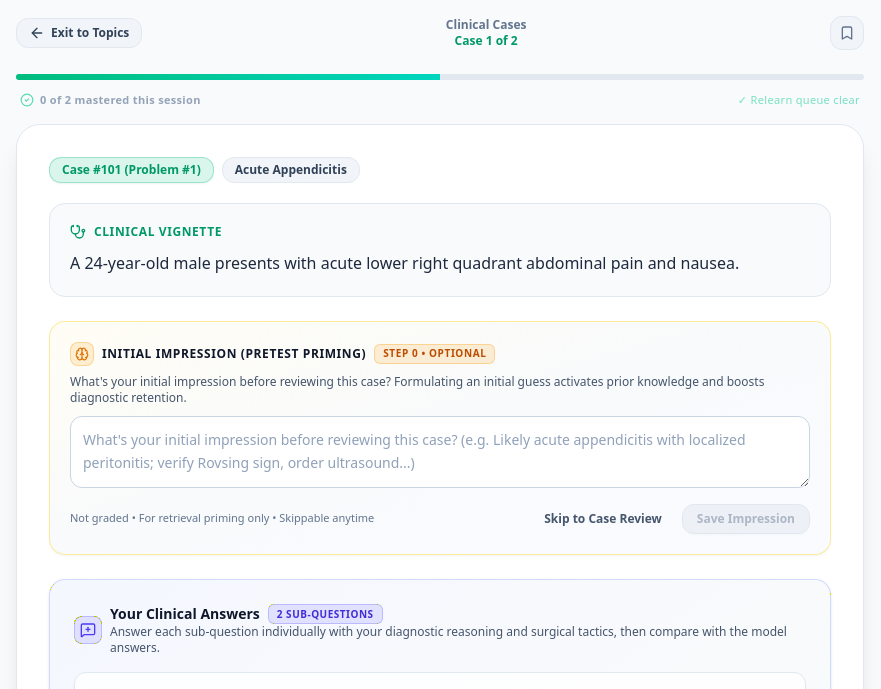
Test case: CaseReviewCard Pretest and Elaboration UI › allows user to skip the pretest without blocking review progress
Step 1. Click the button "Skip to Case Review" → coordinates (603, 518), box [532,504,674,532]
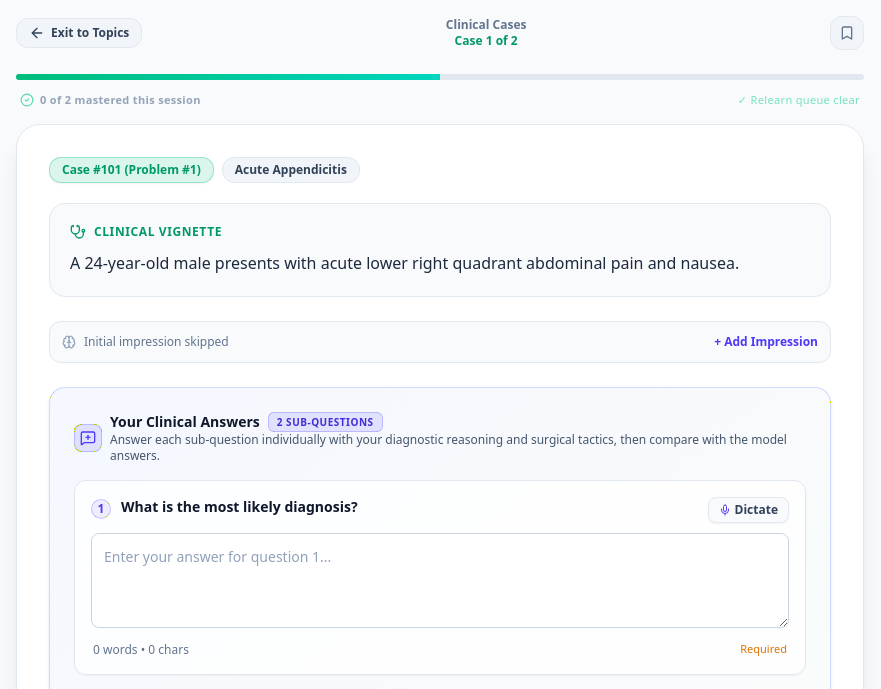
Check: the text "Your Clinical Answers" is shown, box [110,412,260,432]
Check: the text "Initial impression skipped" is shown, box [84,334,229,350]
Check: the button "+ Add Impression" is shown, box [714,334,818,350]
